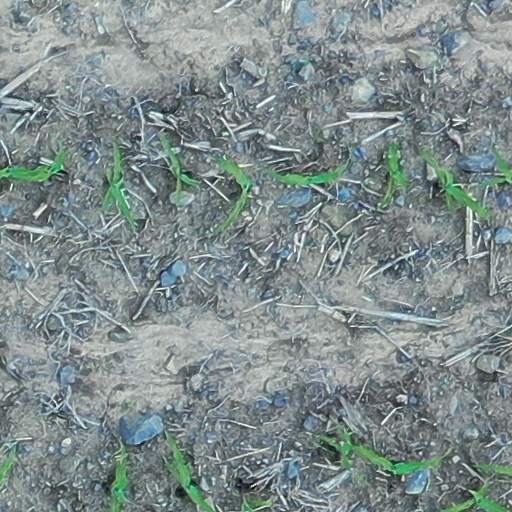planta: (421, 149, 489, 217), (349, 444, 440, 475), (218, 158, 251, 230), (12, 140, 68, 182), (103, 147, 133, 221), (163, 138, 198, 199), (269, 165, 347, 186), (382, 143, 407, 205)
